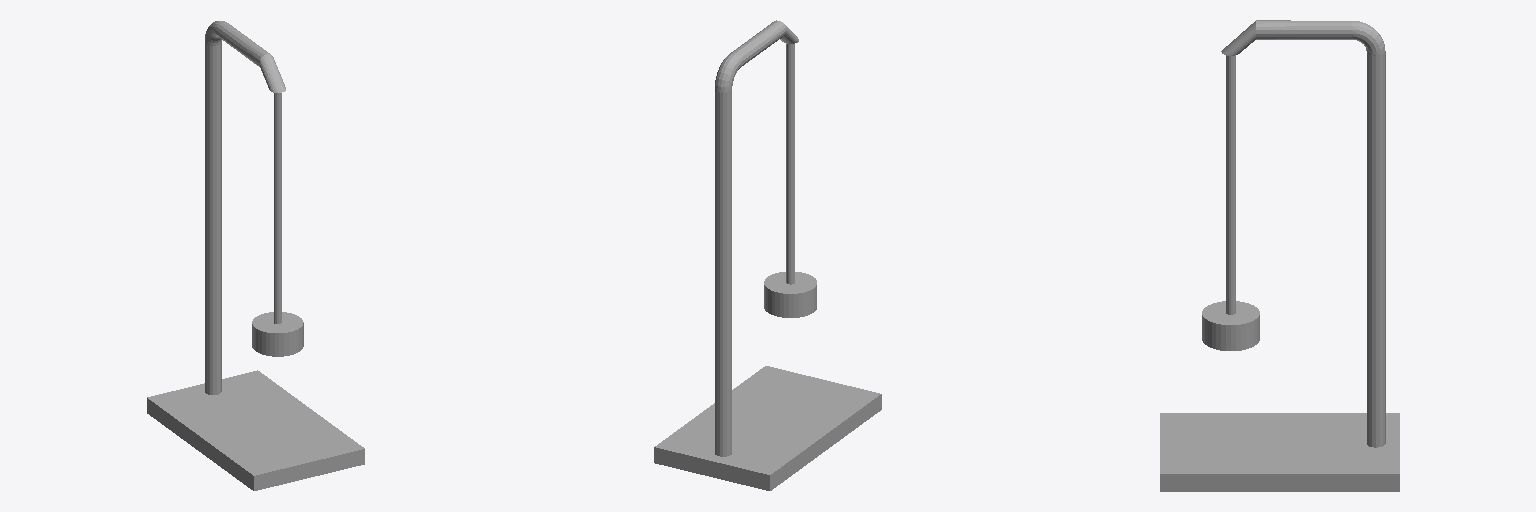
URDF robot description (simple_pedulum):
<?xml version="1.0" ?>
<!-- =================================================================================== -->
<!-- |    This document was autogenerated by xacro from simple_pedulum.xacro           | -->
<!-- |    EDITING THIS FILE BY HAND IS NOT RECOMMENDED                                 | -->
<!-- =================================================================================== -->
<robot name="simple_pedulum">
  <material name="silver">
    <color rgba="0.700 0.700 0.700 1.000"/>
  </material>
  <transmission name="Ball2_tran">
    <type>transmission_interface/SimpleTransmission</type>
    <joint name="Ball2">
      <hardwareInterface>hardware_interface/EffortJointInterface</hardwareInterface>
    </joint>
    <actuator name="Ball2_actr">
      <hardwareInterface>hardware_interface/EffortJointInterface</hardwareInterface>
      <mechanicalReduction>1</mechanicalReduction>
    </actuator>
  </transmission>
  <gazebo>
    <plugin filename="libgazebo_ros_control.so" name="control"/>
  </gazebo>
  <gazebo reference="base_link">
    <material>Gazebo/Silver</material>
    <mu1>0.2</mu1>
    <mu2>0.2</mu2>
    <selfCollide>true</selfCollide>
    <gravity>true</gravity>
  </gazebo>
  <gazebo reference="pendulum_1">
    <material>Gazebo/Silver</material>
    <mu1>0.2</mu1>
    <mu2>0.2</mu2>
    <selfCollide>true</selfCollide>
  </gazebo>
  <link name="base_link">
    <inertial>
      <origin rpy="0 0 0" xyz="0.012500000038143316 0.045846826121013436 -0.024183593613065192"/>
      <mass value="0.9254518780839054"/>
      <inertia ixx="0.00585" ixy="-0.0" ixz="-0.0" iyy="0.004914" iyz="-0.000767" izz="0.001627"/>
    </inertial>
    <visual>
      <origin rpy="0 0 0" xyz="0 0 0"/>
      <geometry>
        <mesh filename="package://simple_pedulum_description/meshes/base_link.stl" scale="0.001 0.001 0.001"/>
      </geometry>
      <material name="silver"/>
    </visual>
    <collision>
      <origin rpy="0 0 0" xyz="0 0 0"/>
      <geometry>
        <mesh filename="package://simple_pedulum_description/meshes/base_link.stl" scale="0.001 0.001 0.001"/>
      </geometry>
    </collision>
  </link>
  <link name="pendulum_1">
    <inertial>
      <origin rpy="0 0 0" xyz="1.8632134030083236e-10 1.7881393241103716e-10 -0.13956521697300156"/>
      <mass value="0.10635272949009089"/>
      <inertia ixx="0.000173" ixy="-0.0" ixz="-0.0" iyy="0.000173" iyz="-0.0" izz="9e-06"/>
    </inertial>
    <visual>
      <origin rpy="0 0 0" xyz="-0.0125 -0.012 -0.175"/>
      <geometry>
        <mesh filename="package://simple_pedulum_description/meshes/pendulum_1.stl" scale="0.001 0.001 0.001"/>
      </geometry>
      <material name="silver"/>
    </visual>
    <collision>
      <origin rpy="0 0 0" xyz="-0.0125 -0.012 -0.175"/>
      <geometry>
        <mesh filename="package://simple_pedulum_description/meshes/pendulum_1.stl" scale="0.001 0.001 0.001"/>
      </geometry>
    </collision>
  </link>
  <joint name="Ball2" type="continuous">
    <origin rpy="0 0 0" xyz="0.0125 0.012 0.175"/>
    <parent link="base_link"/>
    <child link="pendulum_1"/>
  </joint>
</robot>

--- What the picture shows (computed from the rendered views, not written in the file) ---
The picture shows the robot from 3 angles, left to right: view 1: azimuth 30°, elevation 25°; view 2: azimuth 150°, elevation 25°; view 3: azimuth 270°, elevation 25°; orthographic projection.
Robot: simple_pedulum — 2 links, 1 joints (1 continuous); root link base_link; default pose: every joint at zero.
Visible links, largest first — view 1: base_link, pendulum_1; view 2: base_link, pendulum_1; view 3: base_link, pendulum_1.
Link boxes in pixels (box(x1,y1,x2,y2)): base_link: box(147, 21, 364, 490); pendulum_1: box(252, 93, 303, 356); base_link: box(654, 20, 881, 490); pendulum_1: box(764, 44, 816, 317); base_link: box(1160, 20, 1399, 491); pendulum_1: box(1202, 55, 1259, 350).
Size in the robot's own frame: 0.075 by 0.125 by 0.2525 metres.
2 mesh visuals loaded from 2 distinct referenced files (2 binary STL).